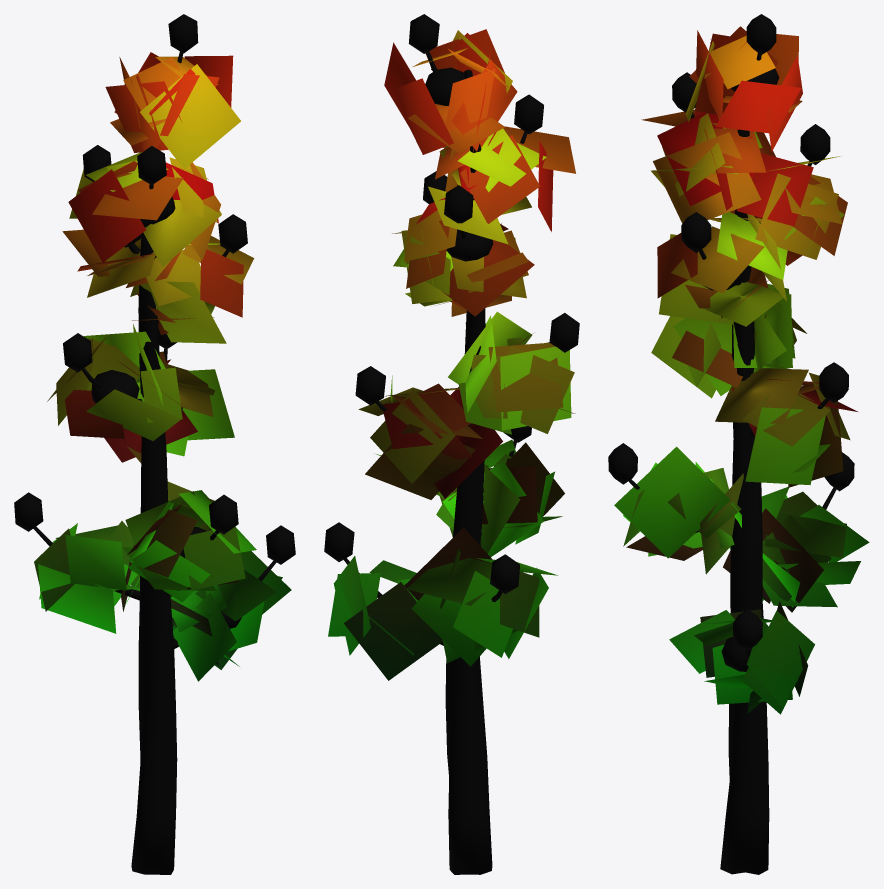
The model's file is env_tree_bg_c.fbx.
The picture shows the model from 3 angles, left to right: view 1: azimuth 30°, elevation 25°; view 2: azimuth 150°, elevation 25°; view 3: azimuth 270°, elevation 25°; orthographic projection. The views are drawn at different scales.
Visible parts, largest first — view 1: env_tree_bg_c; view 2: env_tree_bg_c; view 3: env_tree_bg_c.
Boxes of the visible parts, left/top/right/bottom form: env_tree_bg_c: left=14, top=14, right=295, bottom=874; env_tree_bg_c: left=324, top=14, right=579, bottom=874; env_tree_bg_c: left=608, top=14, right=869, bottom=874.
Size of the model in its own units: 3.32 by 11.03 by 2.99.
